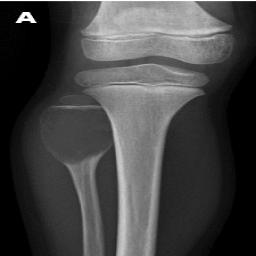cancer: (42, 106, 116, 166)
